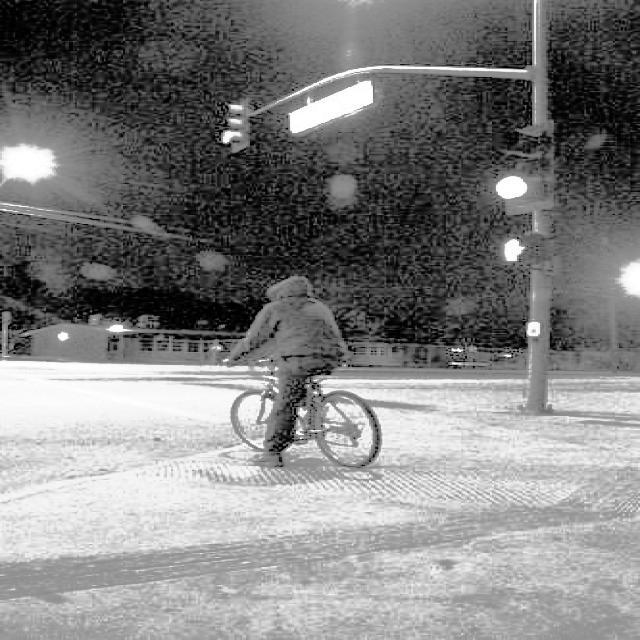Bicycle: (191, 376, 456, 464)
Person: (247, 247, 341, 426)
